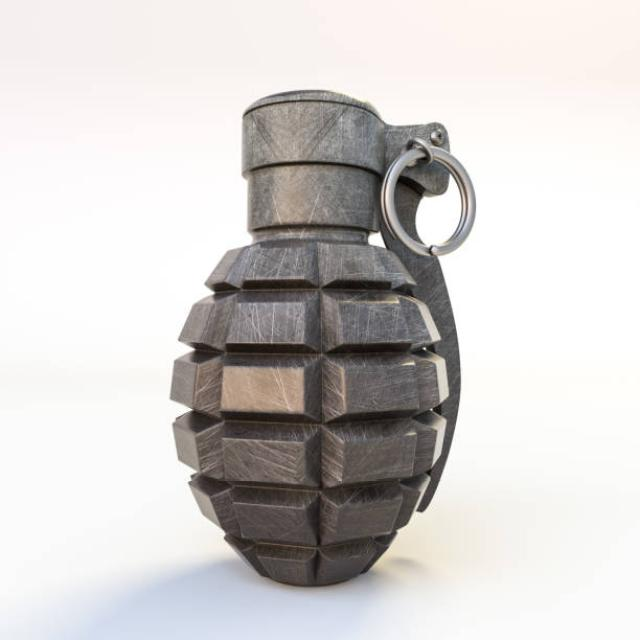grenade: (152, 88, 498, 590)
